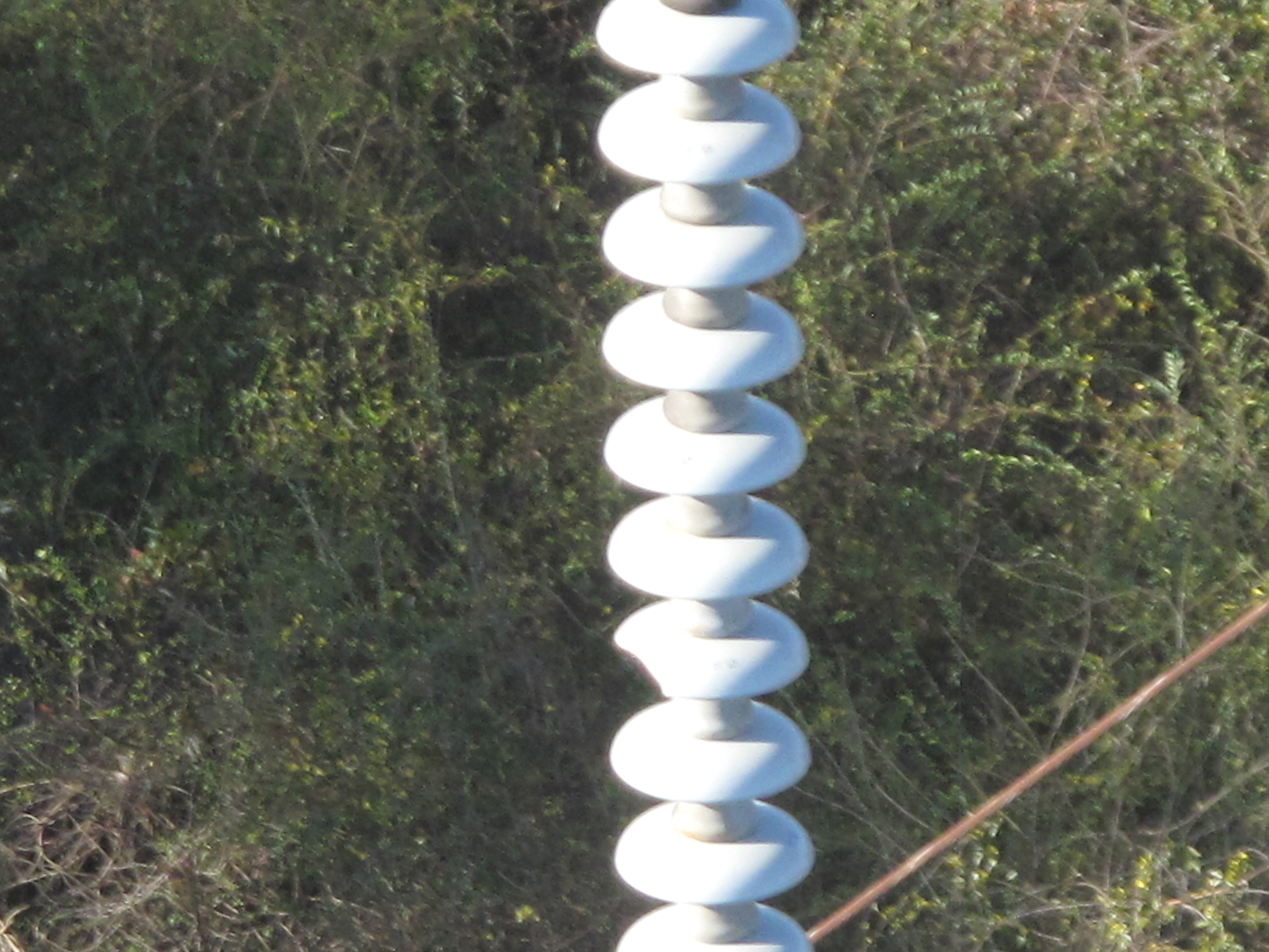damaged: (608, 628, 688, 702)
insulator: (588, 0, 816, 952)
